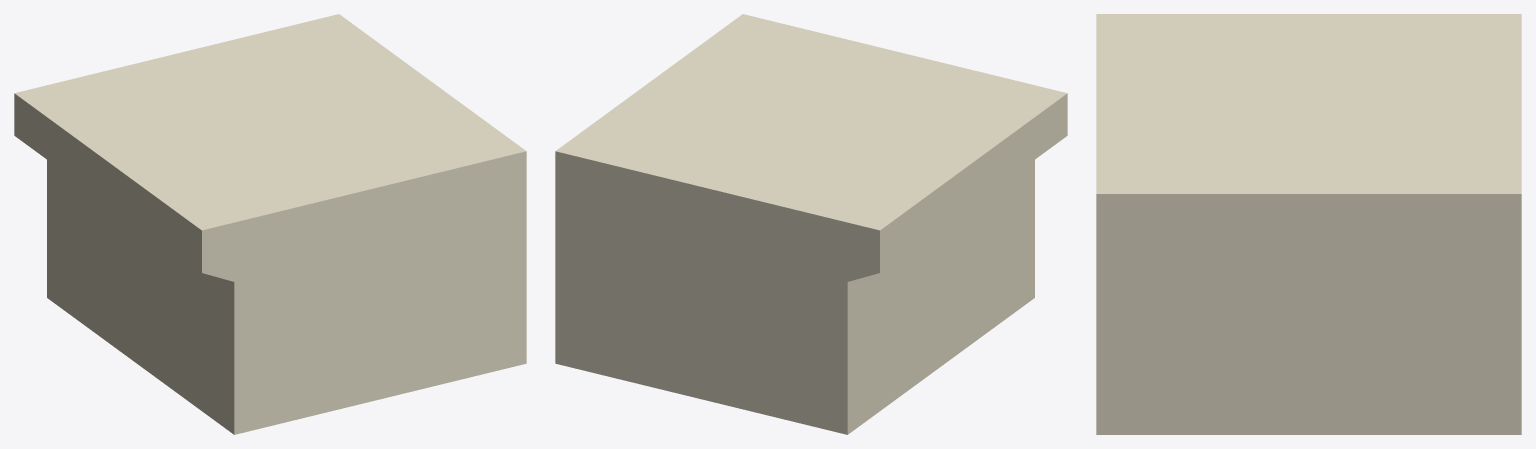
File: modularbuildings_070.glb
3 views of the same model, side by side, from view 1: azimuth 30°, elevation 25°; view 2: azimuth 150°, elevation 25°; view 3: azimuth 270°, elevation 25° (orthographic). The views are drawn at different scales.
Visible parts, largest first — view 1: Mesh1 Group1 Model; view 2: Mesh1 Group1 Model; view 3: Mesh1 Group1 Model.
Part boxes in pixels (x1=…): Mesh1 Group1 Model: x1=14, y1=14, x2=526, y2=434; Mesh1 Group1 Model: x1=555, y1=14, x2=1067, y2=434; Mesh1 Group1 Model: x1=1096, y1=14, x2=1521, y2=434.
Bounding box in the file's own units: 1 × 0.625 × 1.
